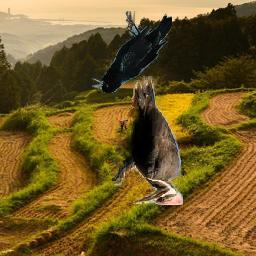Crow: (92, 11, 172, 93)
Woodpecker: (113, 77, 184, 206)
